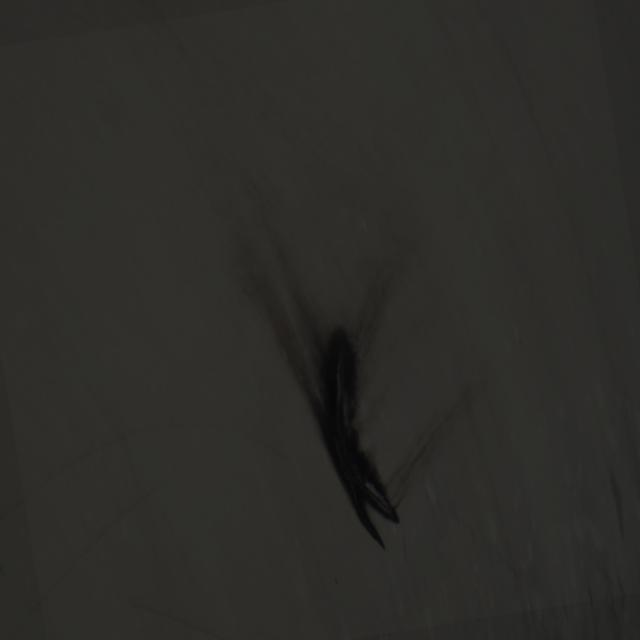crack: (272, 274, 409, 550)
